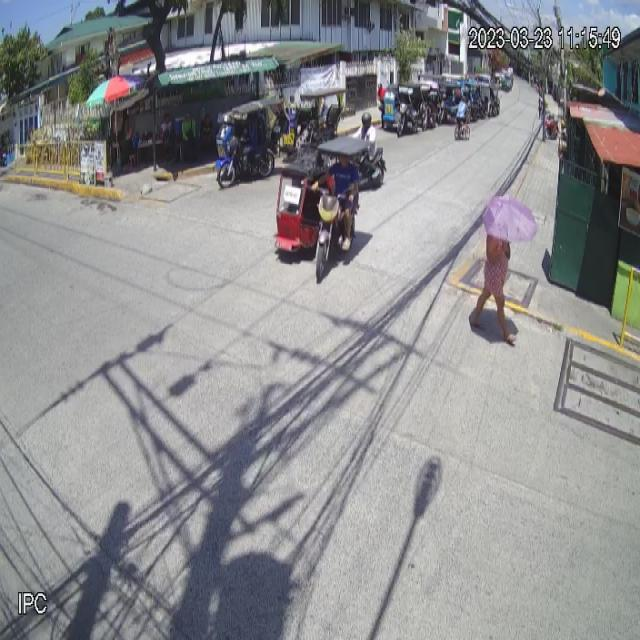Tricycle: (272, 128, 369, 278)
